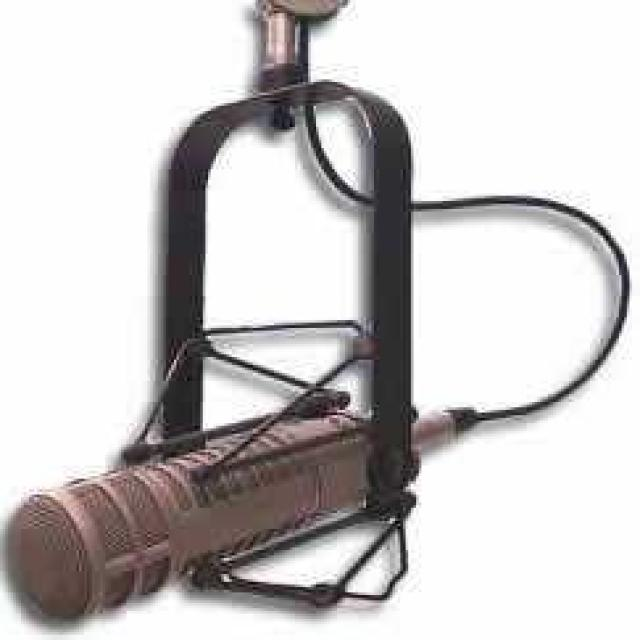microphone: (12, 400, 459, 623)
